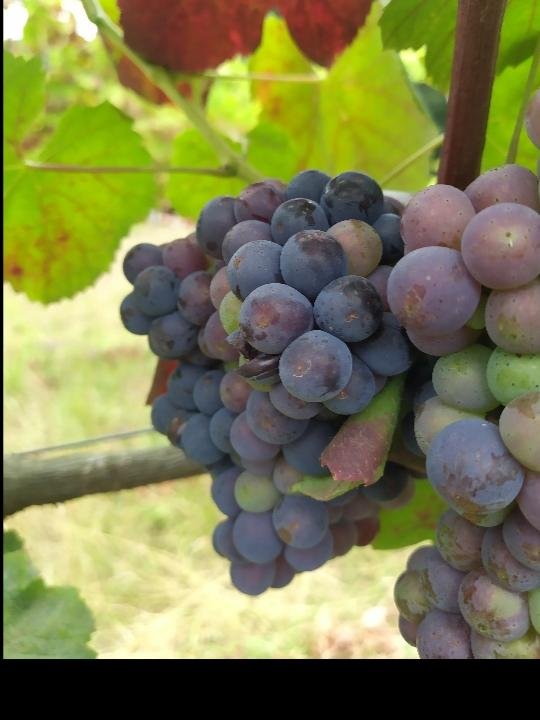grape: (116, 163, 454, 601)
